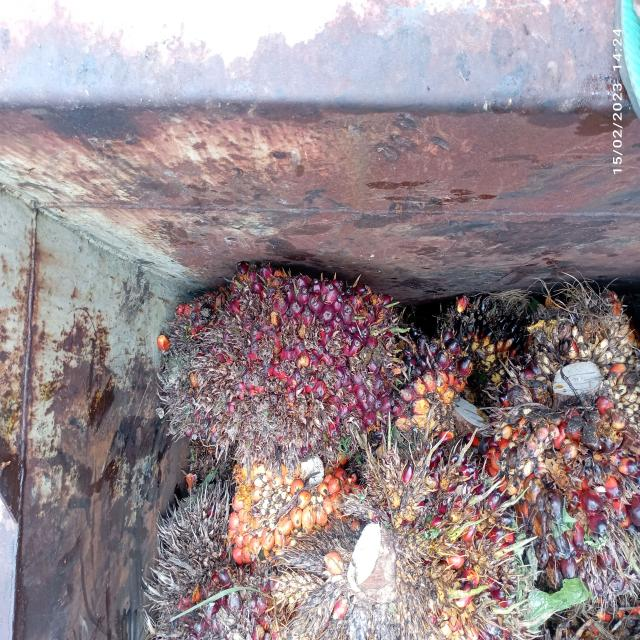fraksi 00: (347, 403, 531, 640), (373, 229, 532, 459)
fraksi 1: (148, 197, 420, 511), (483, 302, 640, 606)
fraksi 4: (203, 447, 376, 577)
